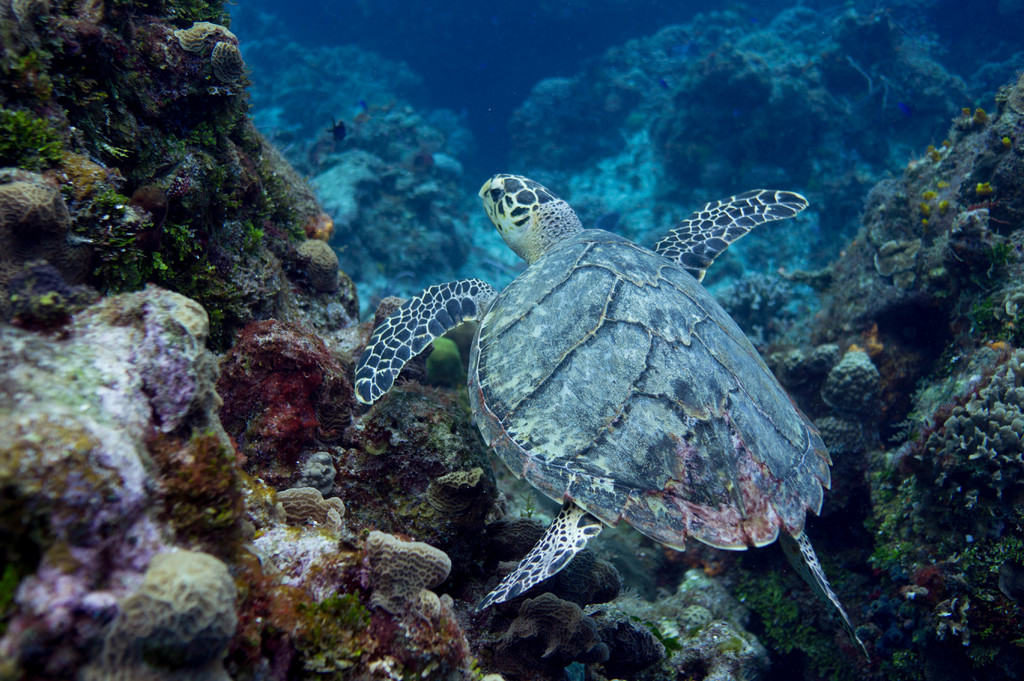Sea turtles: (351, 166, 872, 660), (352, 171, 847, 631)
